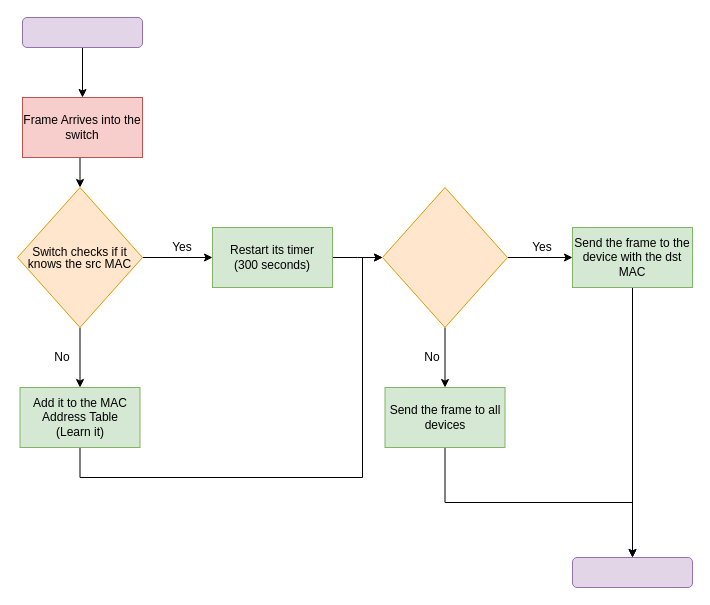
The diagram is 710 pixels wide and 605 high, and some of its shapes have lost their labels. The shapes that lost their labels are listed below. From the top down, each one's centre as x and y in pixels, then its label:
At [82,32]: "Start".
At [445,257]: "Switch checks if it knows the dst MAC".
At [632,572]: "End".
